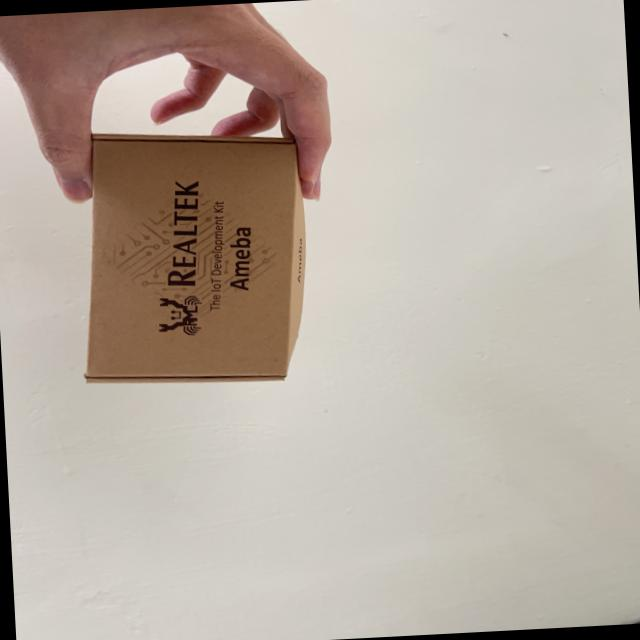box: (68, 109, 353, 388)
